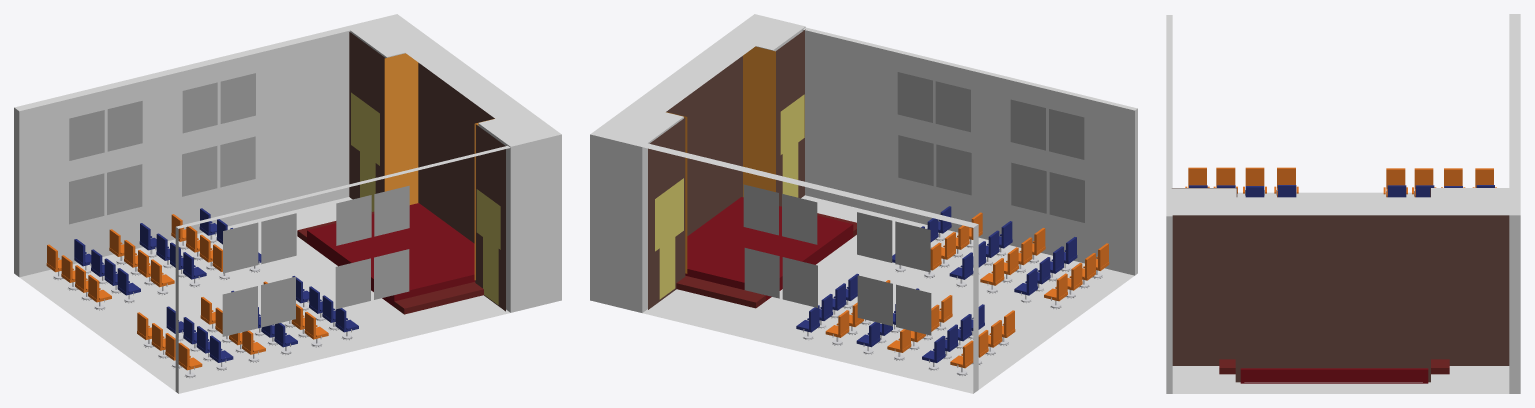
Rendered from aula.glb.
The picture shows the model from 3 angles, left to right: view 1: azimuth 30°, elevation 25°; view 2: azimuth 150°, elevation 25°; view 3: azimuth 270°, elevation 25°; orthographic projection. The views are drawn at different scales.
Parts seen in each view (by area): view 1: Plane, Plane.008, Plane.009, Plane.003, Kubus, Plane.011, Plane.001, Plane.002, Plane.004, Kubus.008, Kubus.010, Kubus.009 (+13 smaller); view 2: Plane, Plane.008, Plane.009, Plane.003, Kubus, Plane.010, Plane.001, Plane.002, Plane.004, Kubus.012, Kubus.014, Kubus.013 (+14 smaller); view 3: Plane.003, Plane, Plane.001, Plane.002, Kubus, Kubus.014, Kubus.010, Kubus.013, Kubus.009.
Part boxes in pixels (x1,y1,x2,y2): Plane: [14, 14, 561, 393]; Plane.008: [69, 73, 255, 224]; Plane.009: [222, 185, 409, 336]; Plane.003: [418, 62, 494, 243]; Kubus: [307, 203, 475, 306]; Plane.011: [384, 53, 418, 204]; Plane.001: [349, 32, 385, 199]; Plane.002: [475, 124, 505, 311]; Plane.004: [351, 92, 379, 165]; Kubus.008: [109, 229, 174, 295]; Kubus.010: [46, 244, 111, 310]; Kubus.009: [74, 239, 140, 303]; Plane: [590, 14, 1137, 393]; Plane.008: [743, 184, 931, 335]; Plane.009: [897, 72, 1084, 222]; Plane.003: [666, 56, 742, 235]; Kubus: [685, 197, 853, 300]; Plane.010: [743, 46, 775, 197]; Plane.001: [648, 118, 685, 309]; Plane.002: [776, 29, 805, 206]; Plane.004: [655, 178, 683, 251]; Kubus.012: [980, 228, 1045, 293]; Kubus.014: [1044, 243, 1109, 309]; Kubus.013: [1014, 237, 1077, 303]; Plane.003: [1235, 215, 1430, 382]; Plane: [1166, 14, 1520, 393]; Plane.001: [1430, 188, 1509, 365]; Plane.002: [1172, 188, 1237, 365]; Kubus: [1240, 368, 1428, 383]; Kubus.014: [1185, 167, 1298, 197]; Kubus.010: [1383, 168, 1496, 197]; Kubus.013: [1189, 185, 1296, 197]; Kubus.009: [1387, 185, 1494, 197].
Size of the model in its own units: 7.95 by 3.3 by 5.91.
